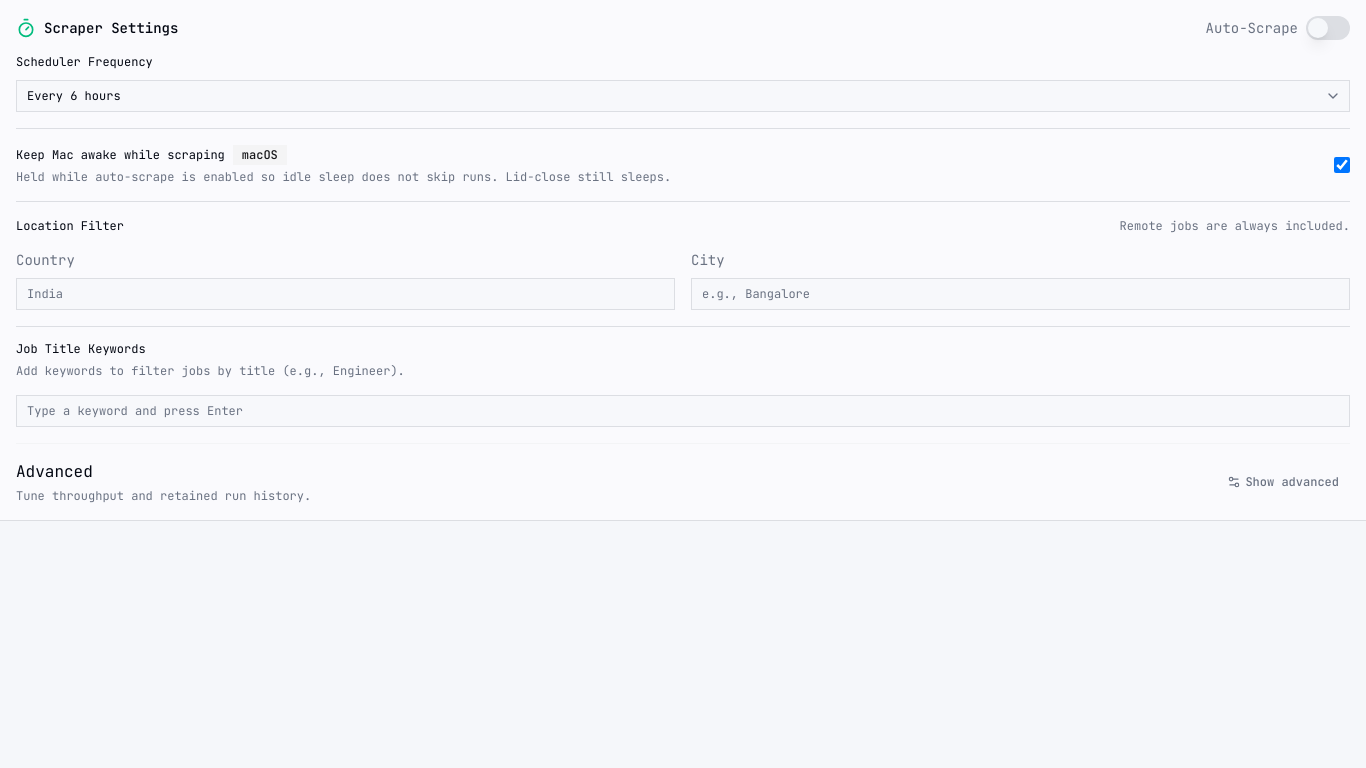
ScraperSettings › keeps operational tuning behind Advanced settings
The image size is (1366, 768).
Expected: the dropdown named "Scheduler Frequency" is shown, [16,80,1350,112]
Expected: the checkbox labelled "Keep Mac awake while scraping" is shown, [1334,157,1350,173]
Click the button "Show advanced" at (1285, 482), box [1220,466,1350,498]
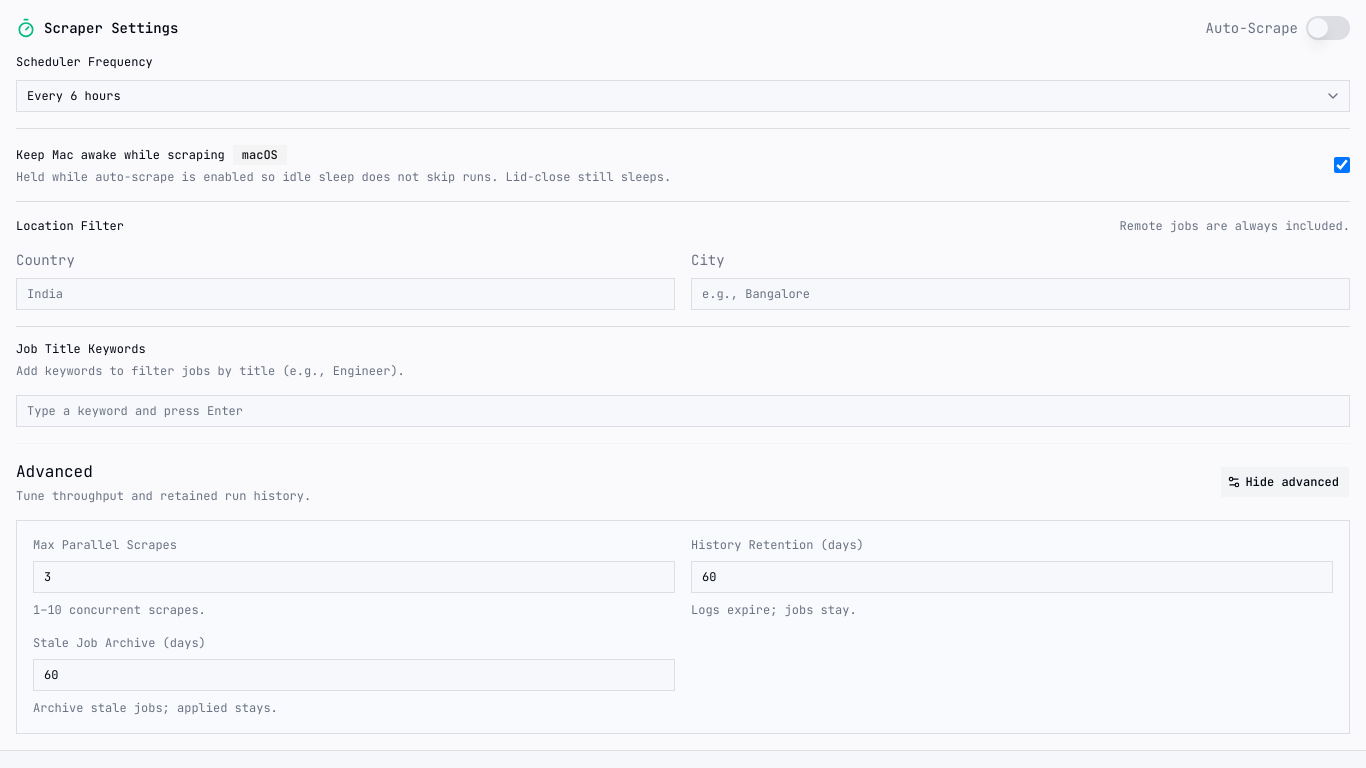
Now the number field labelled "Max Parallel Scrapes" is shown, box [33,561,675,593]
Now the number field labelled "History Retention (days)" is shown, box [691,561,1333,593]
Now the number field labelled "Stale Job Archive (days)" is shown, box [33,659,675,691]
